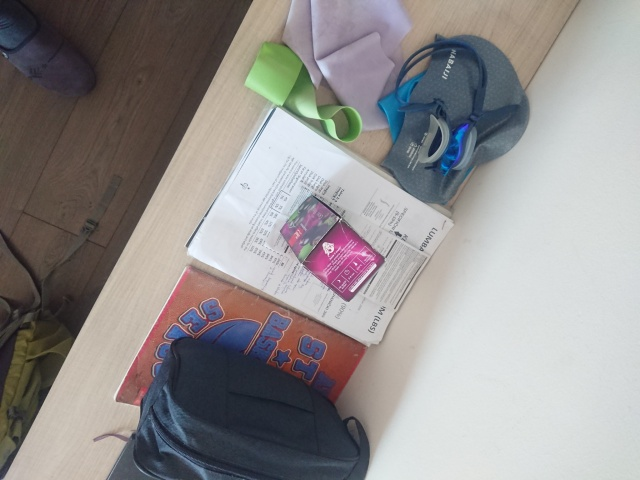Franck Black Currant Tea 60g: (278, 192, 388, 304)
